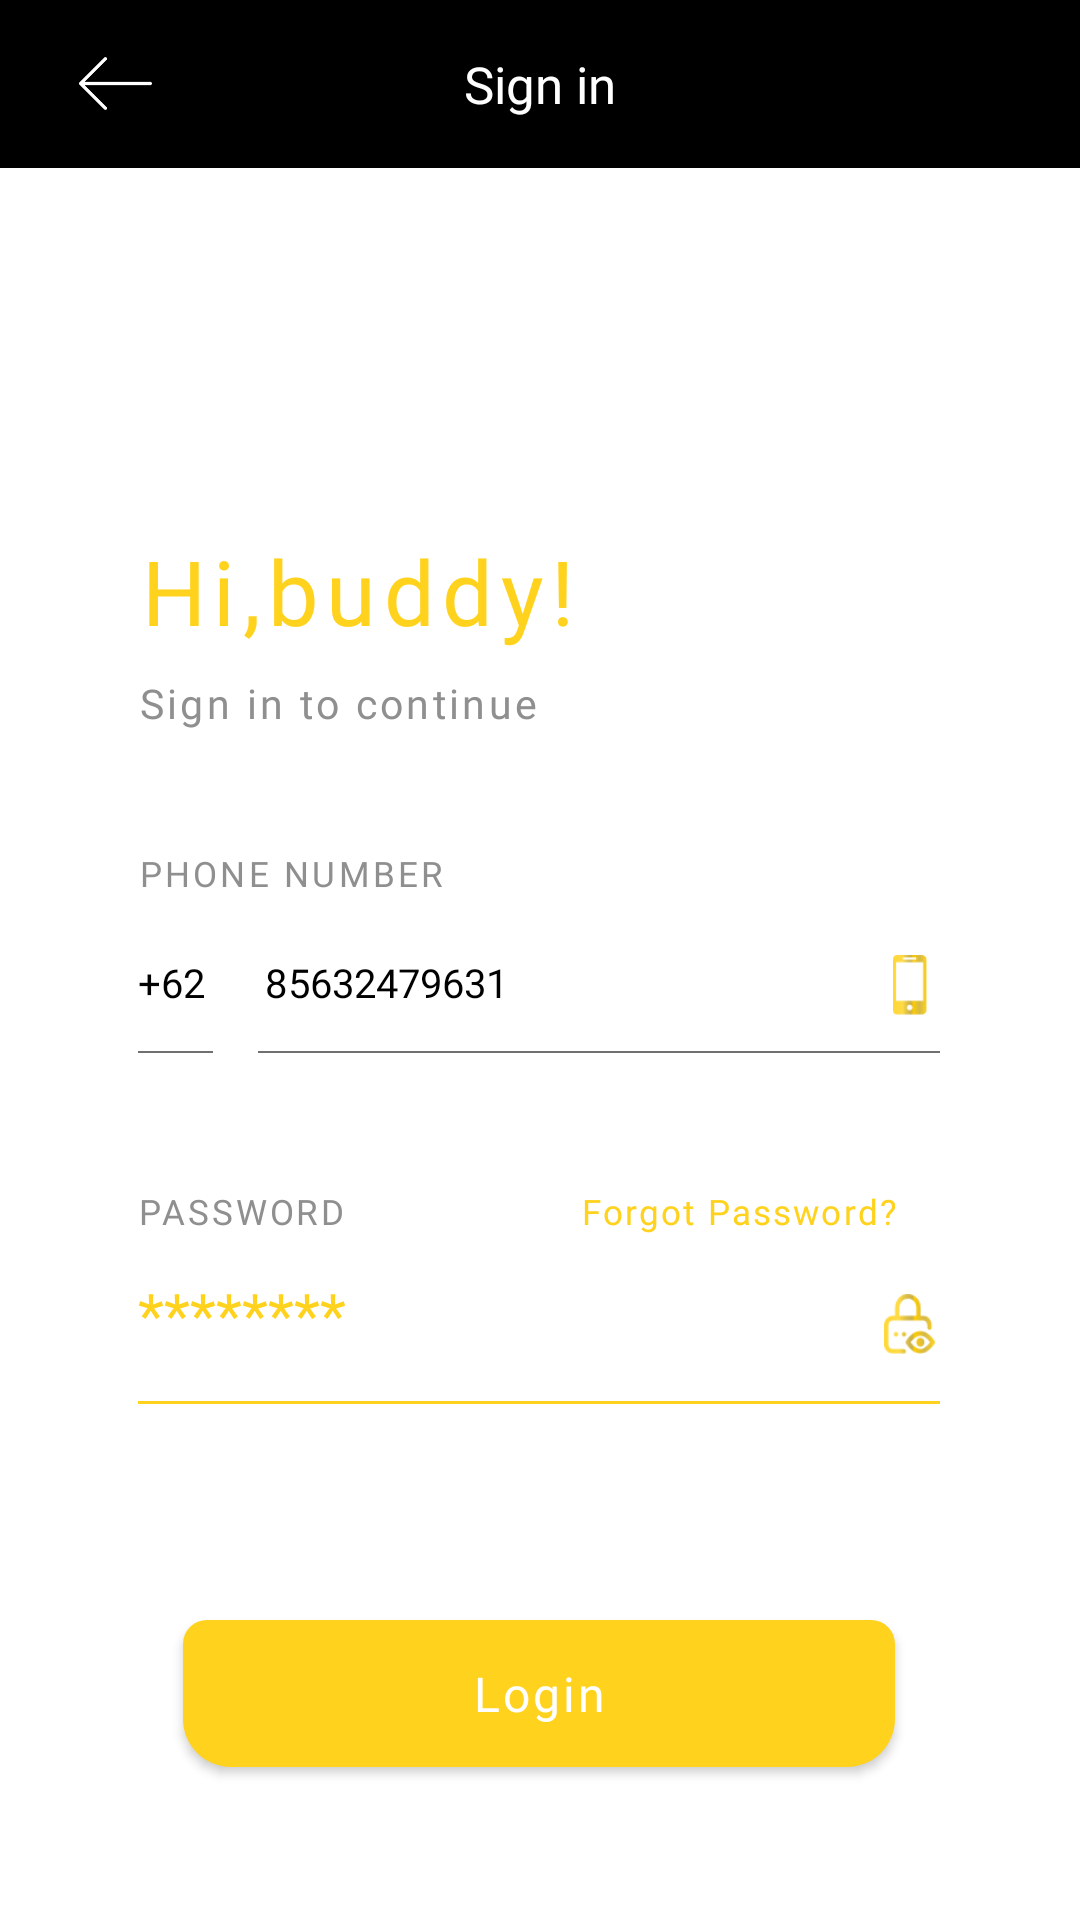

Named icons in this screenshot (1080×1920) and their centers, [x,y]:
left arrow: [115,83]
mobile: [910,985]
show password: [909,1324]
